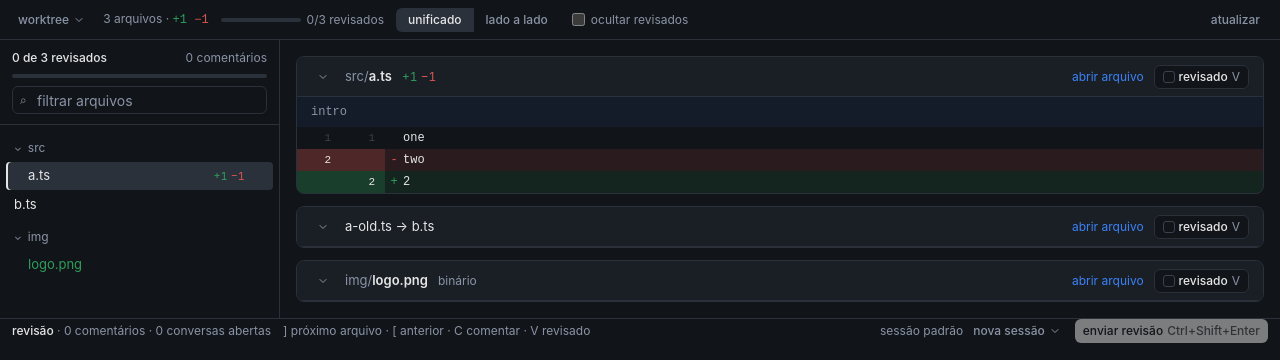
Scenario: marking a file from its card posts its hash, puts ✓ on its row, collapses its card and opens the next unreviewed file (#591, #853)
The image size is (1280, 360).
Expected: the element "src/a.ts" is shown, top-left (296, 56), bottom-right (1264, 194)
Click the button "revisado V" in the row of "src/" at (1201, 76), box top-left (1154, 64), bottom-right (1249, 88)
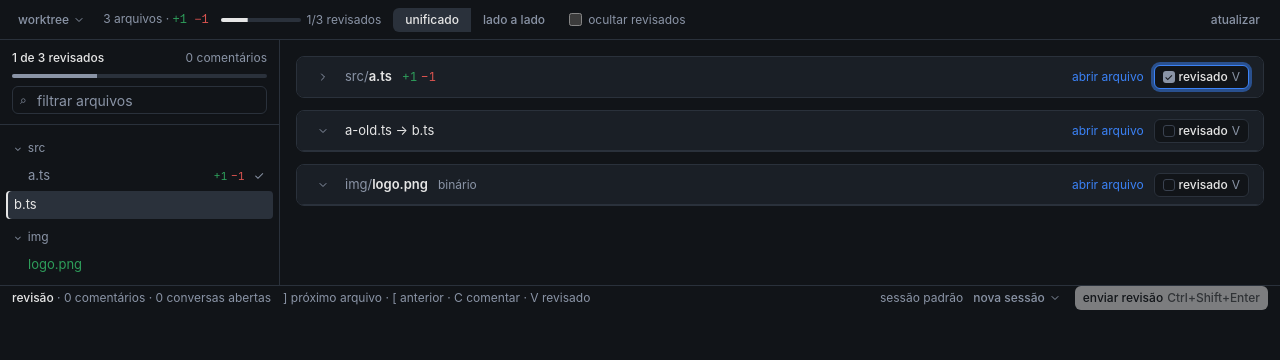
Expected: the button "a.ts +1 −1 ✓" is shown, top-left (6, 162), bottom-right (273, 190)
Expected: the button named "expandir arquivo" is shown, top-left (311, 65), bottom-right (335, 89)
Expected: the element named "barra do diff" shows "1/3 revisados", top-left (307, 12), bottom-right (381, 26)
